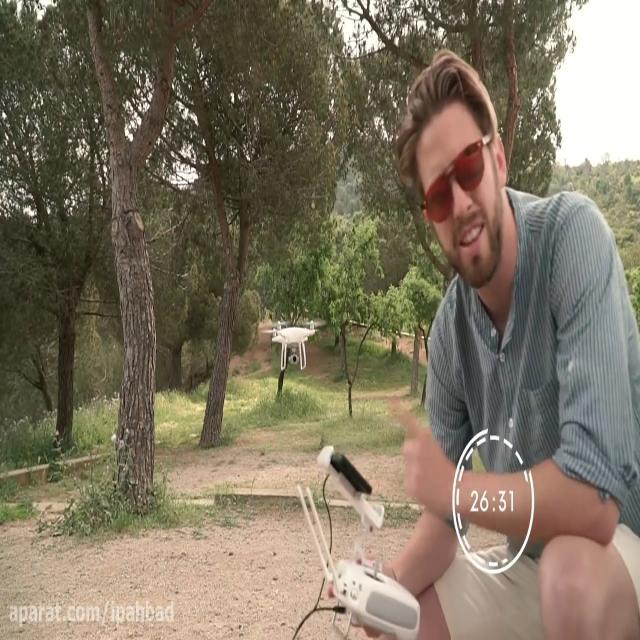drone: (258, 316, 326, 372)
